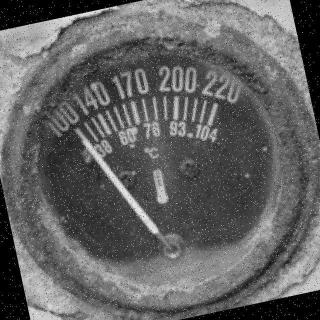gauge: (4, 5, 320, 320), (58, 115, 100, 158), (192, 96, 232, 136), (156, 230, 186, 264), (69, 123, 85, 137)
